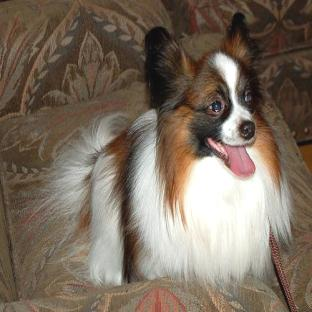Animal: (44, 13, 292, 287)
